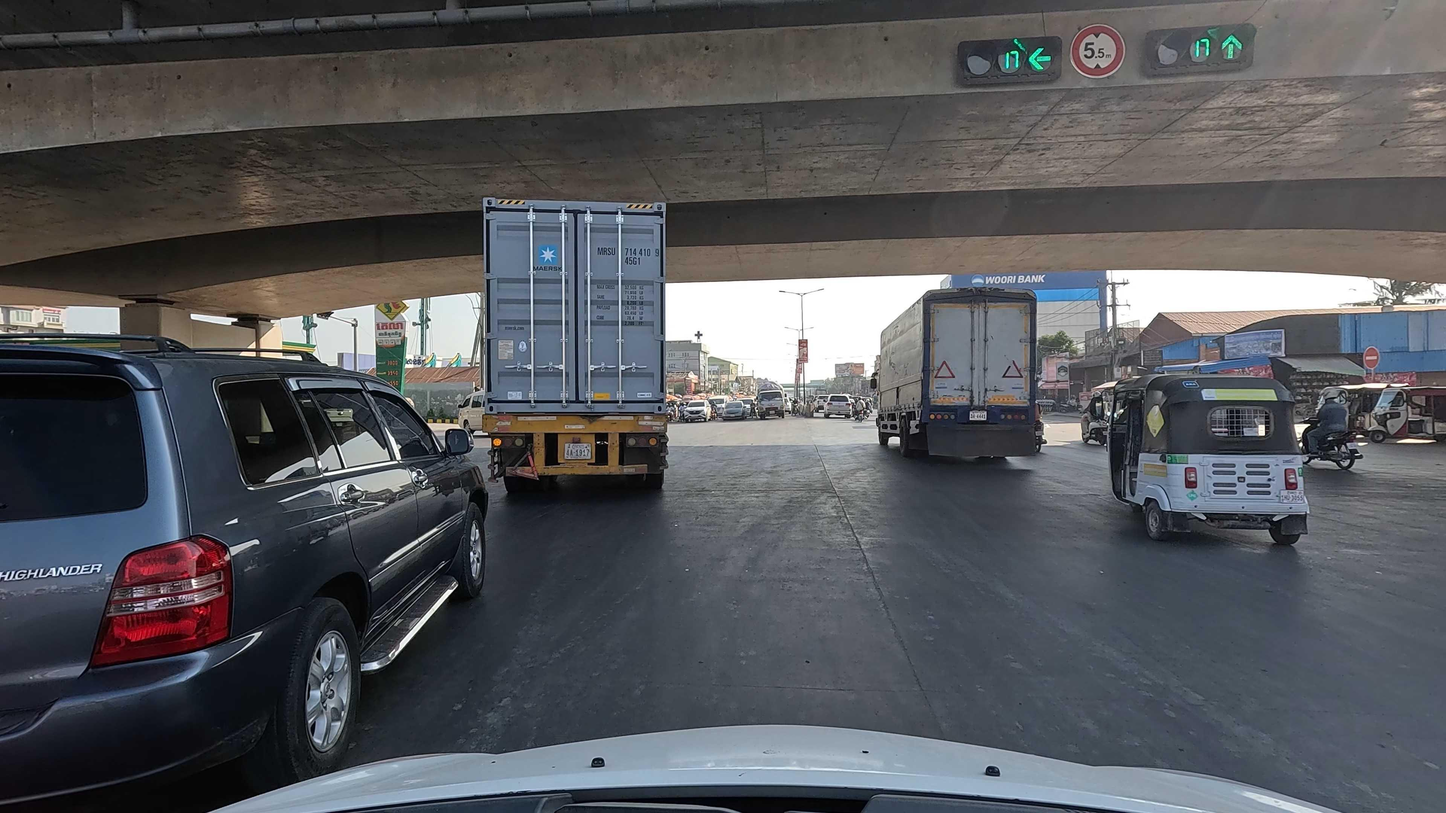height_limit_5_5m: (1068, 23, 1127, 78)
no_entry: (1363, 346, 1380, 370)
